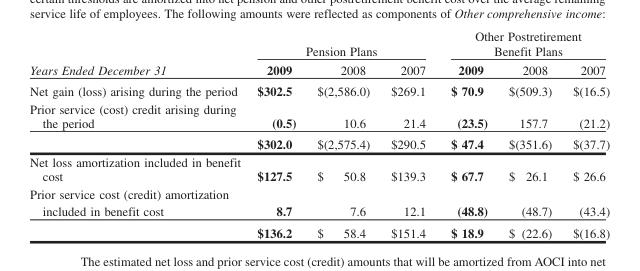table: (29, 28, 609, 239)
table column: (29, 28, 248, 239), (306, 28, 379, 239), (497, 28, 561, 239), (437, 28, 497, 239), (248, 28, 306, 239), (379, 28, 437, 239), (561, 28, 609, 239)
table column header: (29, 28, 609, 80)
table projected row header: (29, 184, 609, 201)
table row: (29, 99, 609, 133), (29, 152, 609, 184), (29, 28, 609, 59), (29, 59, 609, 80), (29, 201, 609, 221), (29, 80, 609, 99), (29, 133, 609, 152), (29, 221, 609, 239), (29, 184, 609, 201)
table spanning cell: (29, 28, 248, 80), (248, 28, 437, 59), (437, 28, 609, 59)
